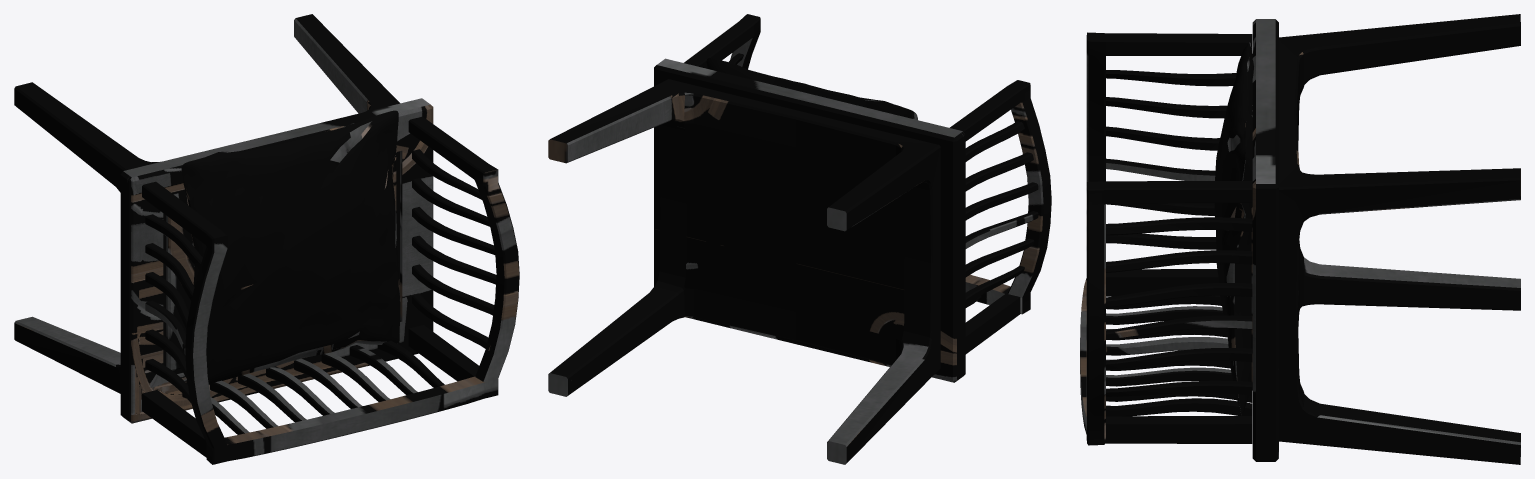
The picture shows the model from 3 angles, left to right: view 1: azimuth 30°, elevation 25°; view 2: azimuth 150°, elevation 25°; view 3: azimuth 270°, elevation 25°; orthographic projection. The views are drawn at different scales.
Bounding box in the file's own units: 0.6 × 0.4484 × 0.617.
